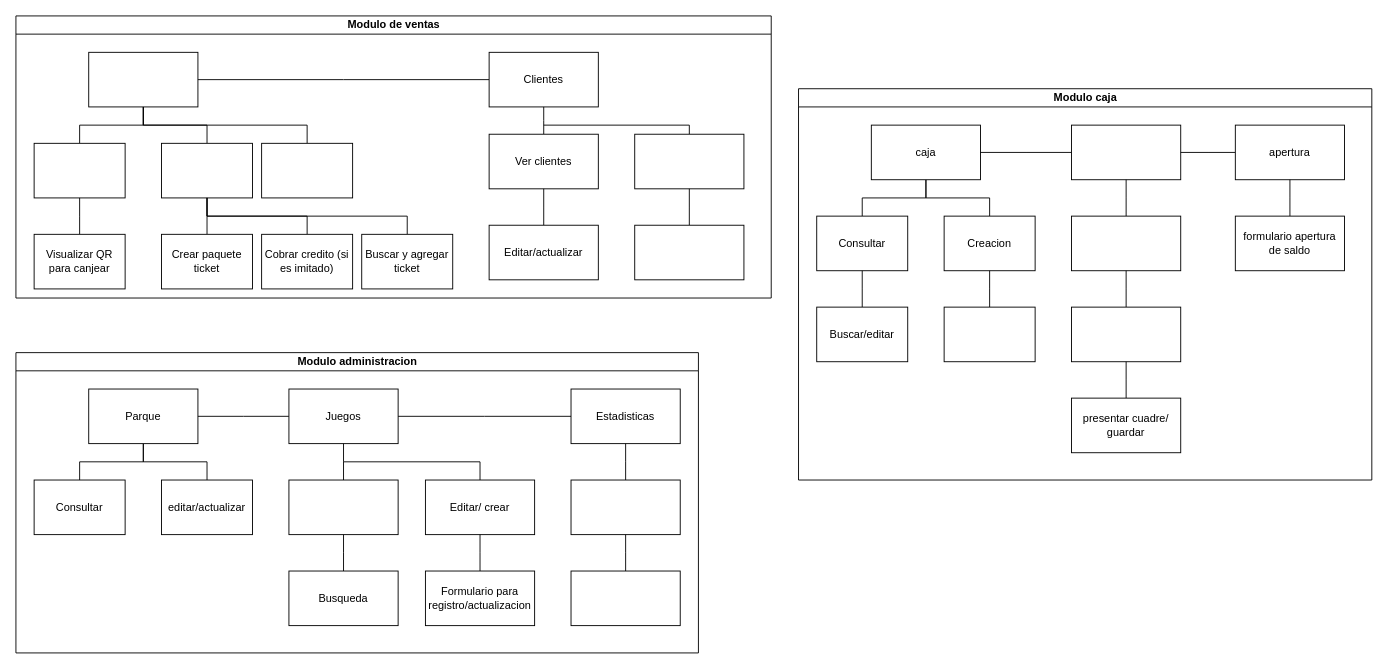
Image size: 1388x669. Some labels were removed from this diagram. Each missing label, with the centre of its shape:
"Cancelar credito" goes at pixel 307 170.
"Consulta del reporte" goes at pixel 625 507.
"Consultar juegos" goes at pixel 343 507.
"corte" goes at pixel 1126 152.
"Creditos" goes at pixel 143 79.
"Formulario registro" goes at pixel 989 334.
"Formulario, creacion de codigo" goes at pixel 689 252.
"hacer arqueo" goes at pixel 1126 334.
"Impresion o exportacion" goes at pixel 625 598.
"Nuevo cliente" goes at pixel 689 161.
"Nuevo credito" goes at pixel 207 170.
"presentar resumen dia/fecha especifica" goes at pixel 1126 243.
"Ver creditos" goes at pixel 79 170.
